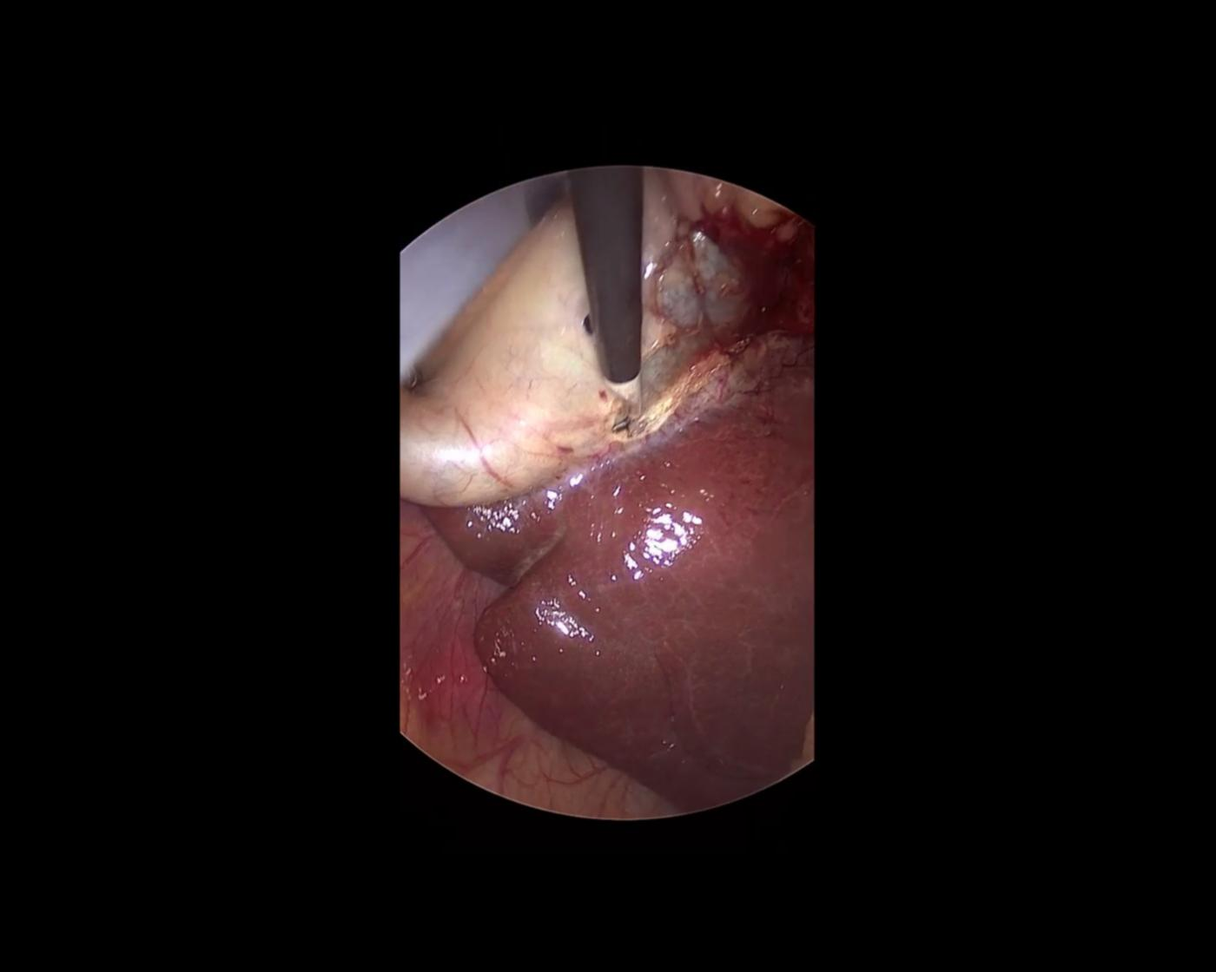Cautery: (557, 164, 646, 431)
Gallbladder: (314, 127, 788, 570)
Liver: (420, 341, 961, 869)
